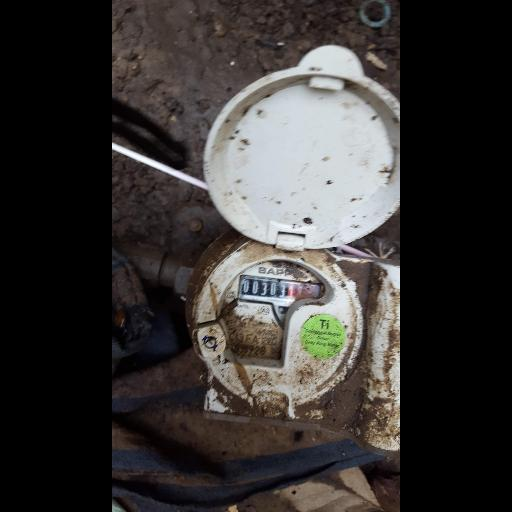0: (241, 278, 252, 295), (251, 279, 262, 296), (269, 282, 279, 299)
1: (287, 284, 299, 301)
3: (277, 283, 289, 300), (260, 281, 271, 298)
border_water_meter_number: (238, 273, 322, 305)
